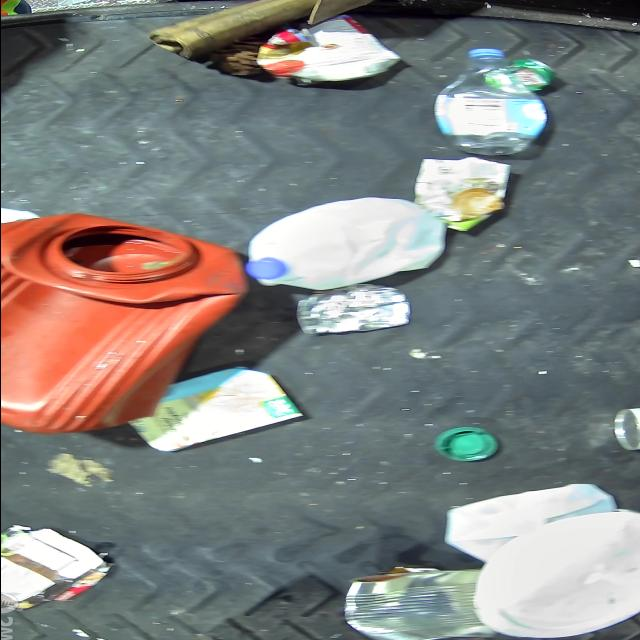can: (340, 571, 487, 640), (294, 287, 412, 337), (608, 406, 640, 454)
milk_jug: (472, 514, 640, 640), (244, 198, 440, 292), (438, 485, 616, 563)
non_white_jug: (0, 213, 247, 435)
plastic_bottle: (432, 48, 553, 154)
